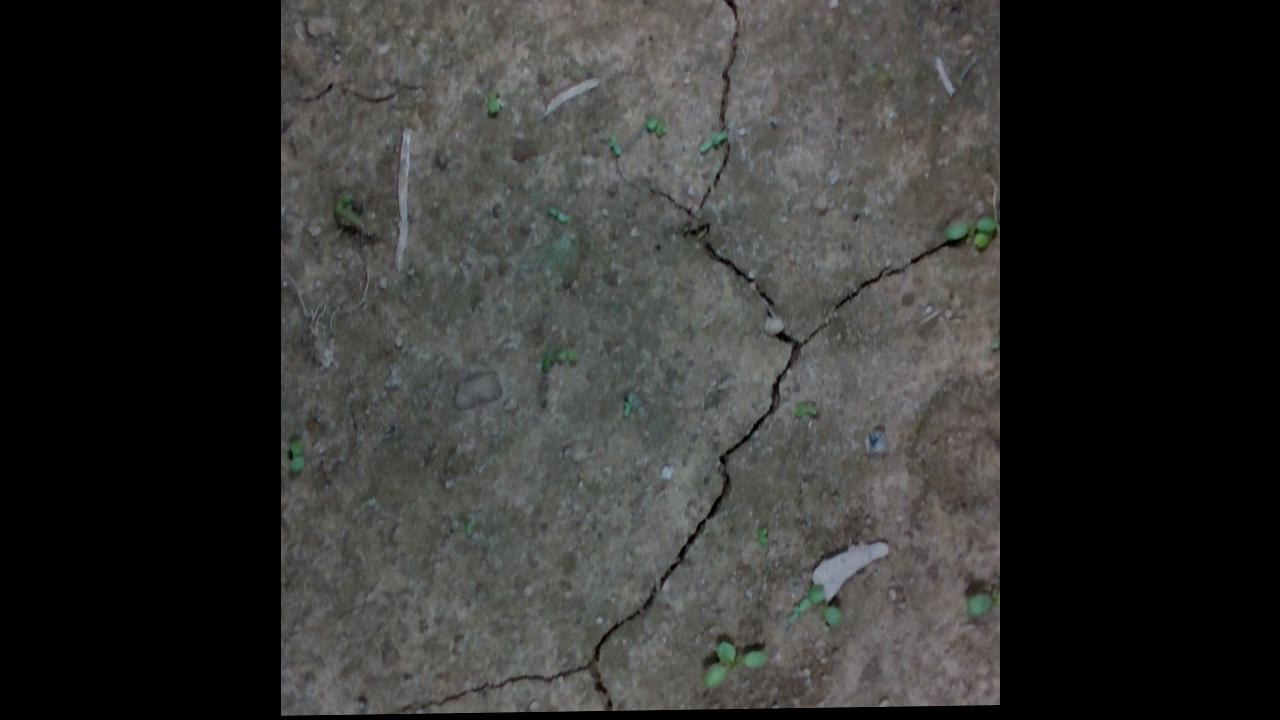weed: (702, 641, 769, 690), (793, 585, 843, 641), (698, 121, 735, 162), (479, 81, 504, 127), (757, 523, 781, 556), (601, 132, 626, 163), (546, 204, 575, 229), (797, 393, 821, 423), (652, 111, 668, 143)
